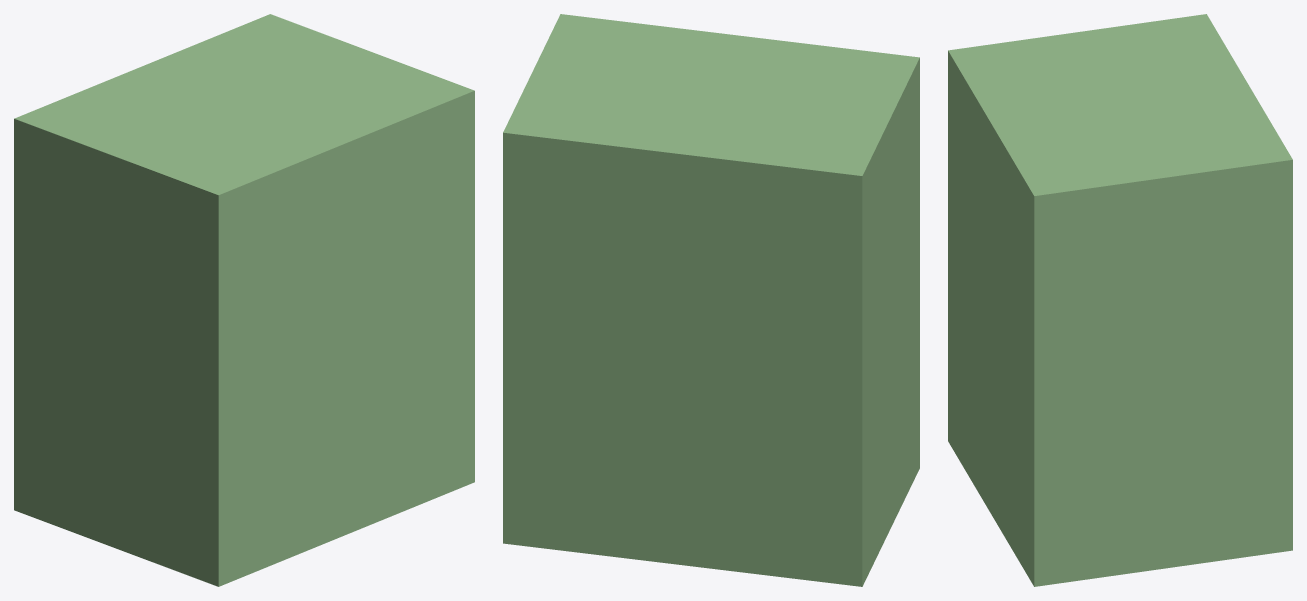
Rendered from hedge-span-far.glb.
3 renders of one model, left to right at view 1: azimuth 30°, elevation 25°; view 2: azimuth 150°, elevation 25°; view 3: azimuth 270°, elevation 25°, orthographic. The views are drawn at different scales.
Parts seen in each view (by area): view 1: hedge-span-far; view 2: hedge-span-far; view 3: hedge-span-far.
Part boxes in pixels (left/top/right/bottom): hedge-span-far: left=14, top=14, right=474, bottom=586; hedge-span-far: left=503, top=14, right=919, bottom=586; hedge-span-far: left=948, top=14, right=1292, bottom=586.
Bounding box in the file's own units: 1 × 1 × 0.8.
